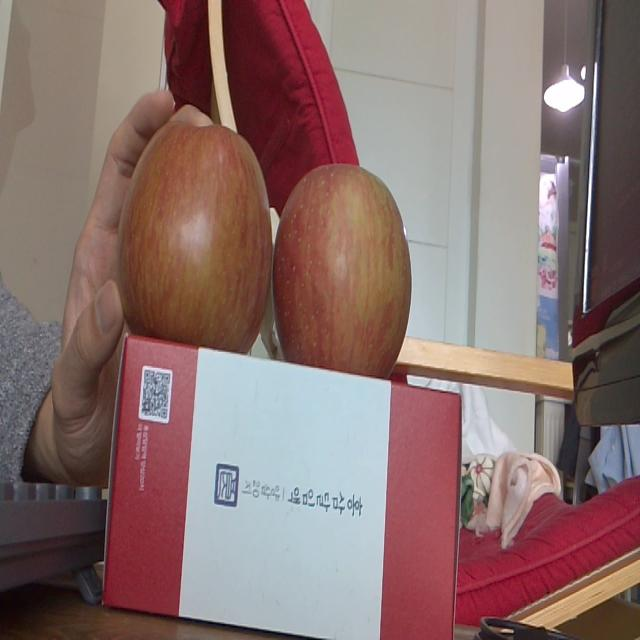apple: (113, 117, 274, 353), (275, 156, 411, 375)
